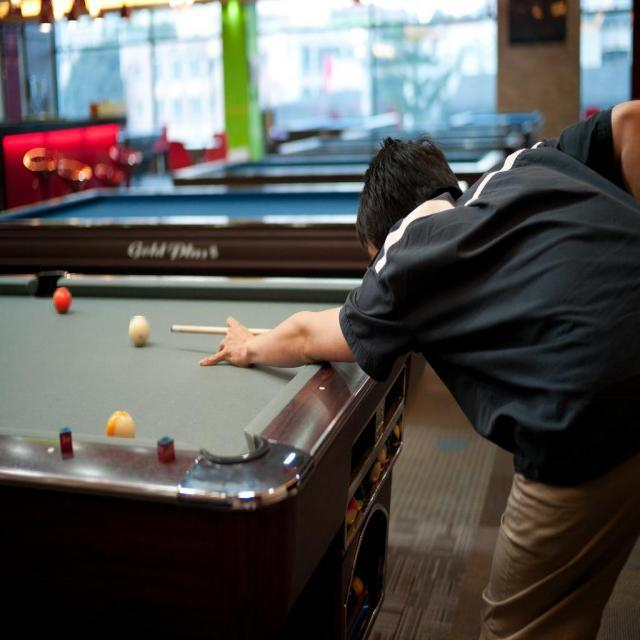Ball: (104, 412, 135, 438), (130, 316, 150, 346), (54, 288, 72, 314)
Billiard table: (0, 280, 400, 639)
